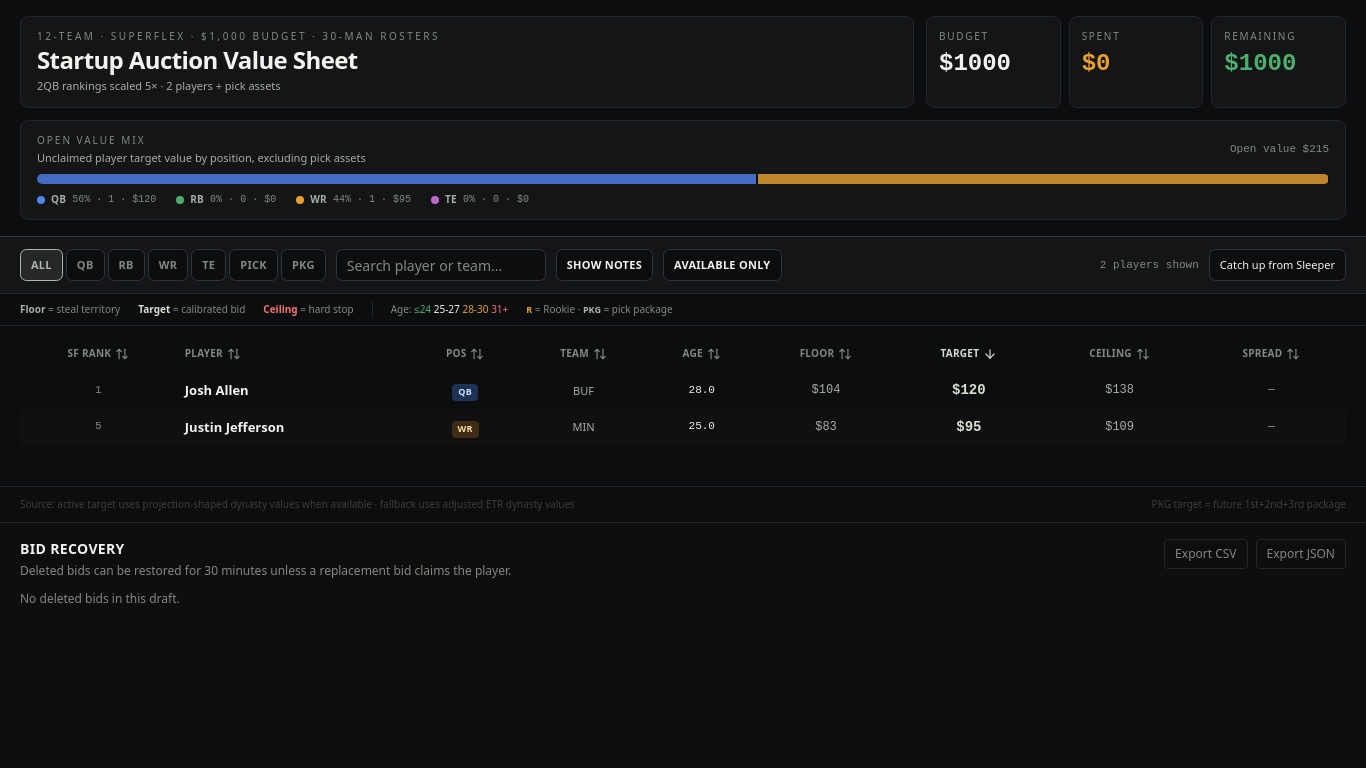
Test: AuctionSheet with claimed bids › shows the typed maximum-bid failure and keeps the modal open
Click the button "Josh Allen" at (217, 390), box [185,381,249,400]
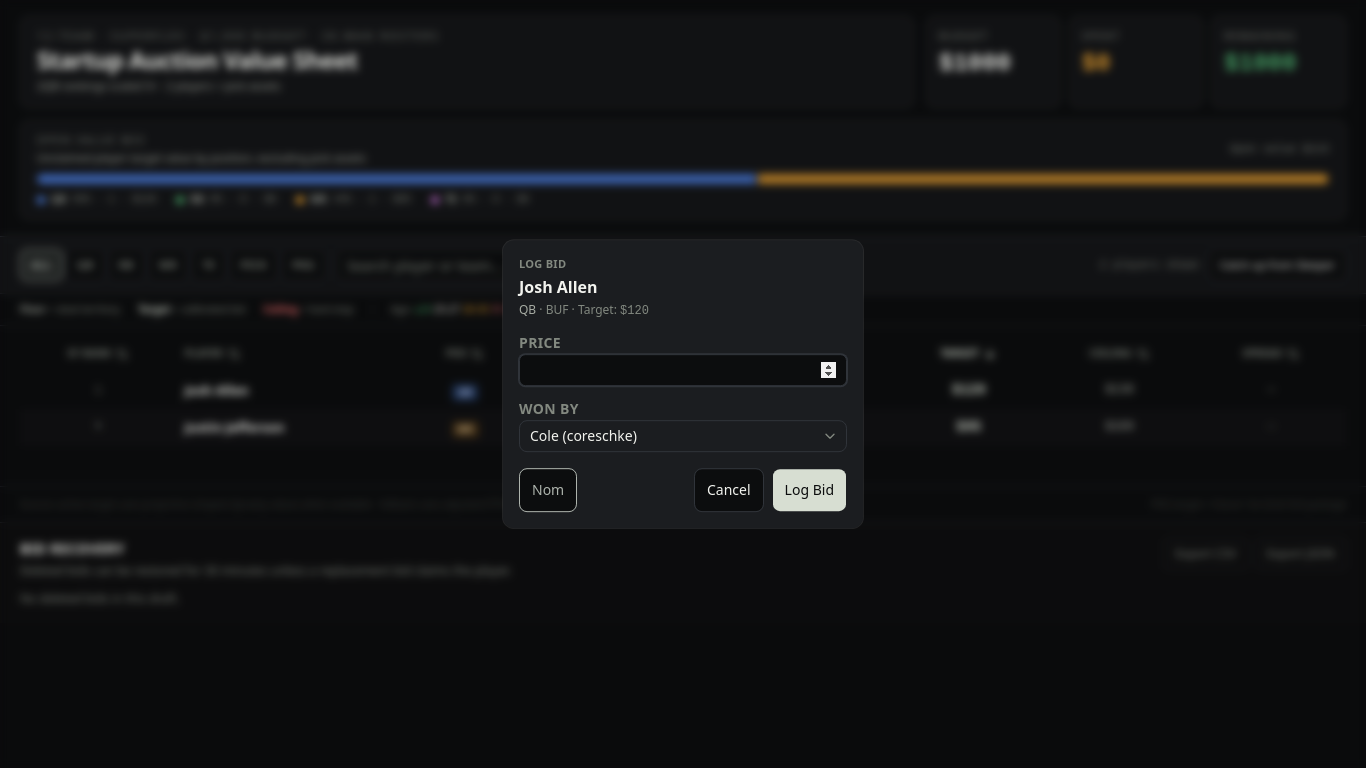
Type "999" into the number field with test id "bid-price" at (683, 370), box [519,354,847,386]
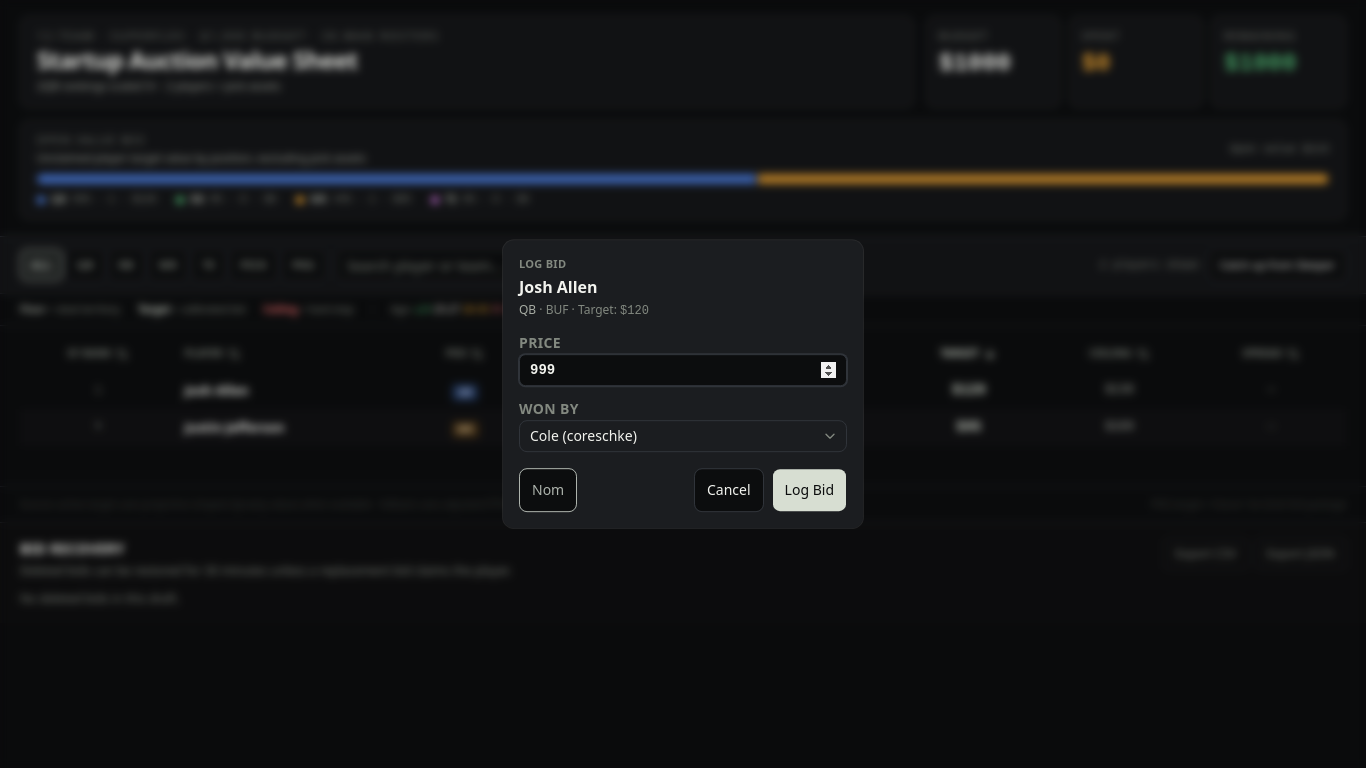
Click the button with test id "bid-submit" at (809, 490), box [772,468,847,512]
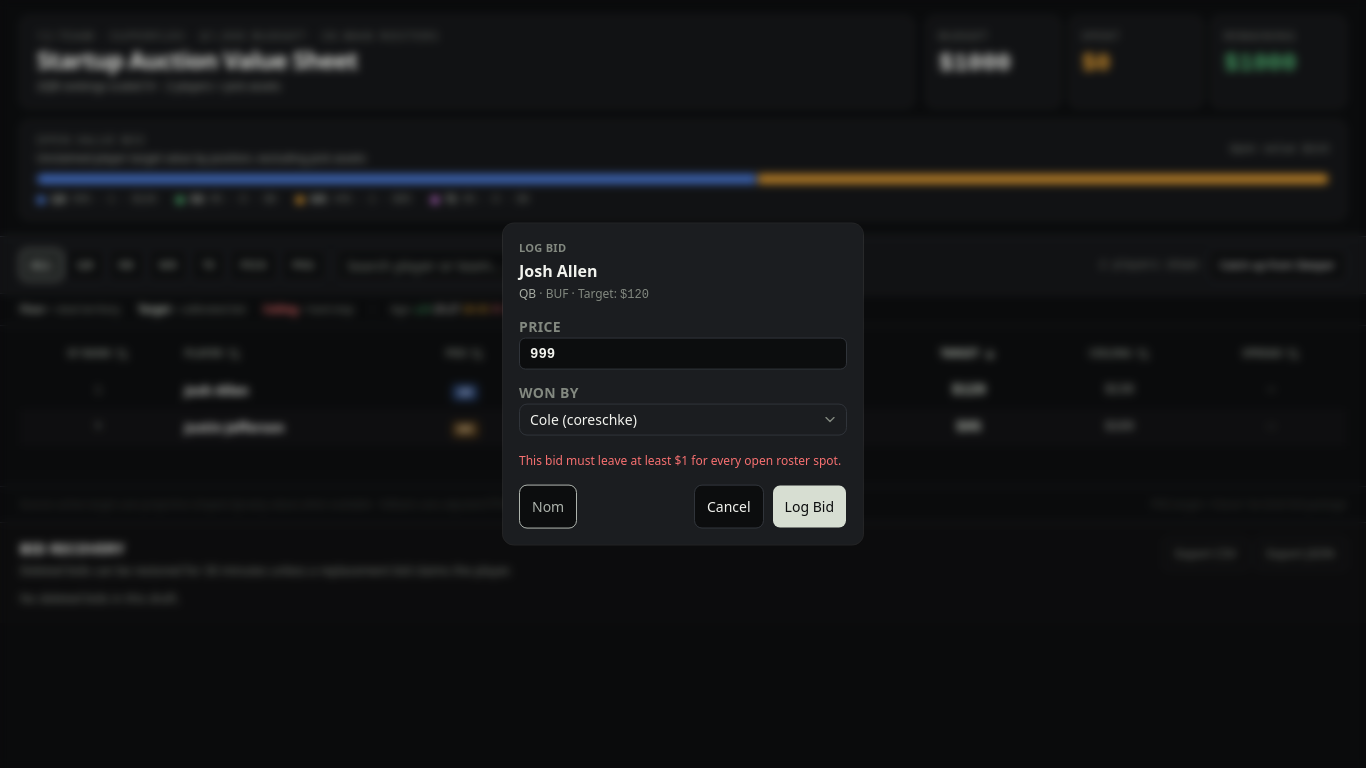
Check: the dialog is shown, box [503,224,863,544]
Check: the text with test id "bid-server-error" shows "leave at least $1 for every open roster spot", box [519,451,841,468]
